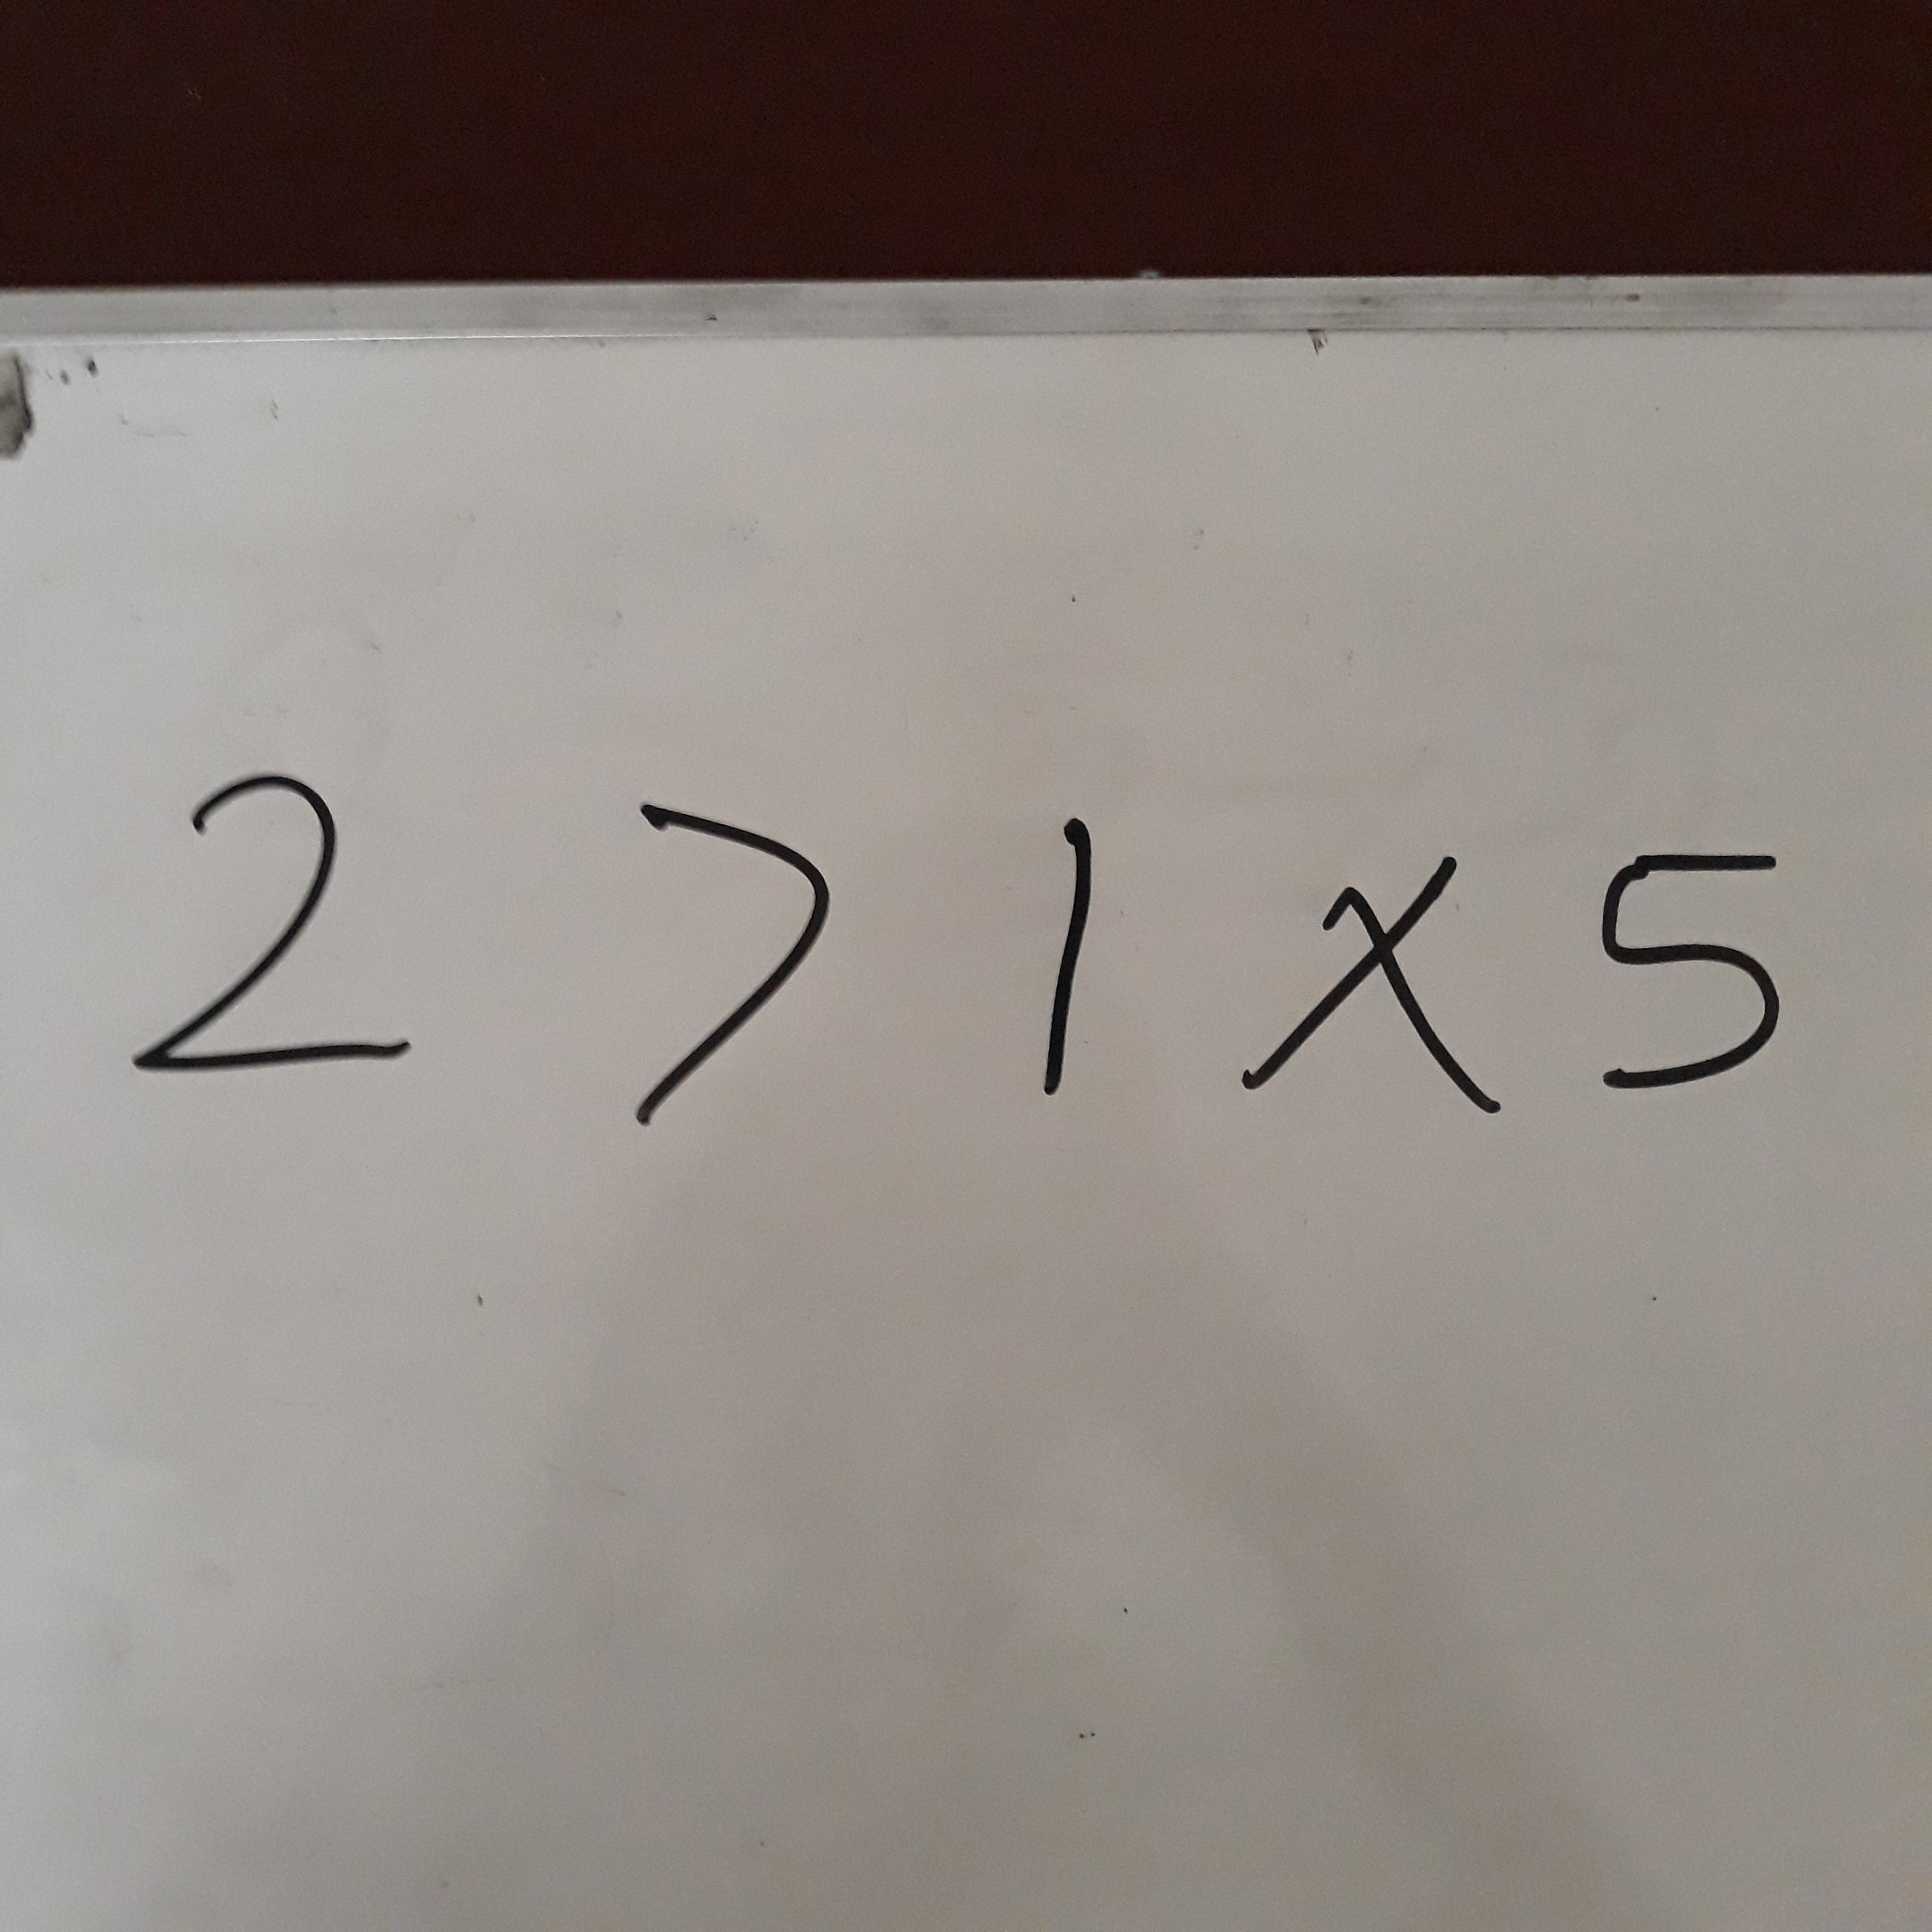morethan: (561, 792, 902, 1142)
multi: (1230, 810, 1541, 1148)
num1: (979, 786, 1152, 1124)
num2: (99, 759, 440, 1110)
num5: (1585, 817, 1829, 1140)
